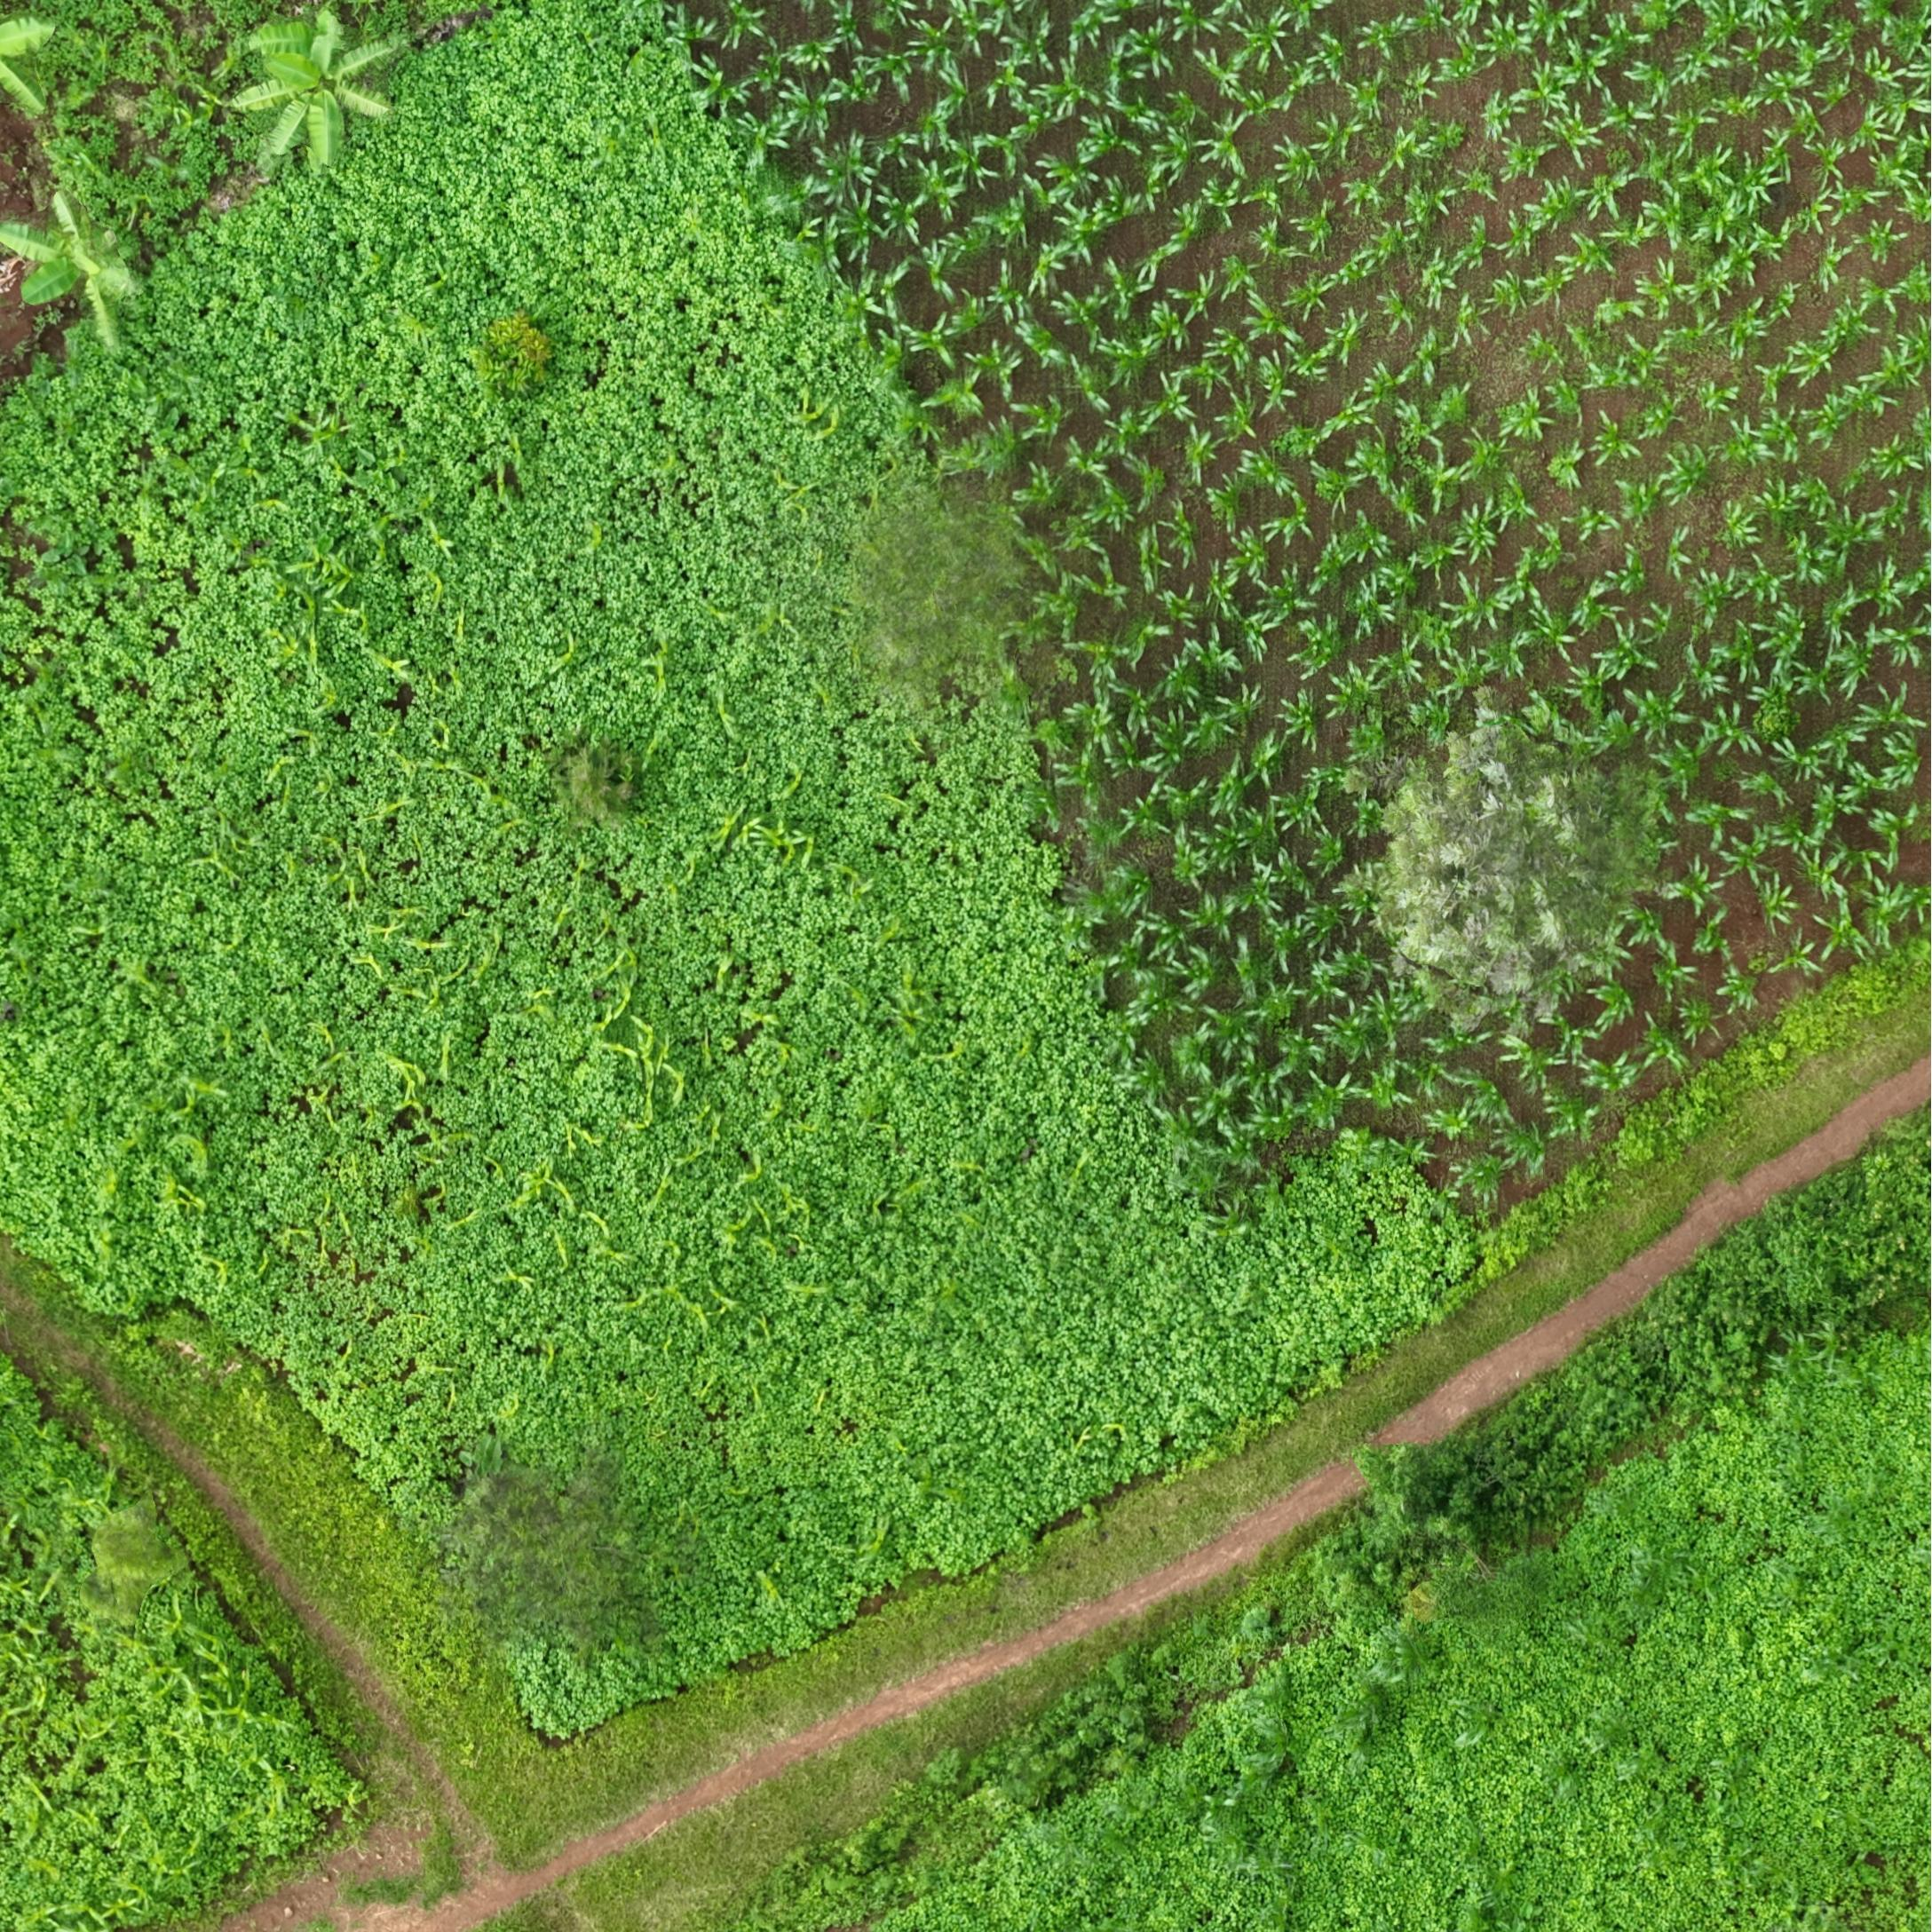Banana: (16, 198, 152, 361), (267, 64, 439, 188), (226, 16, 421, 99)
